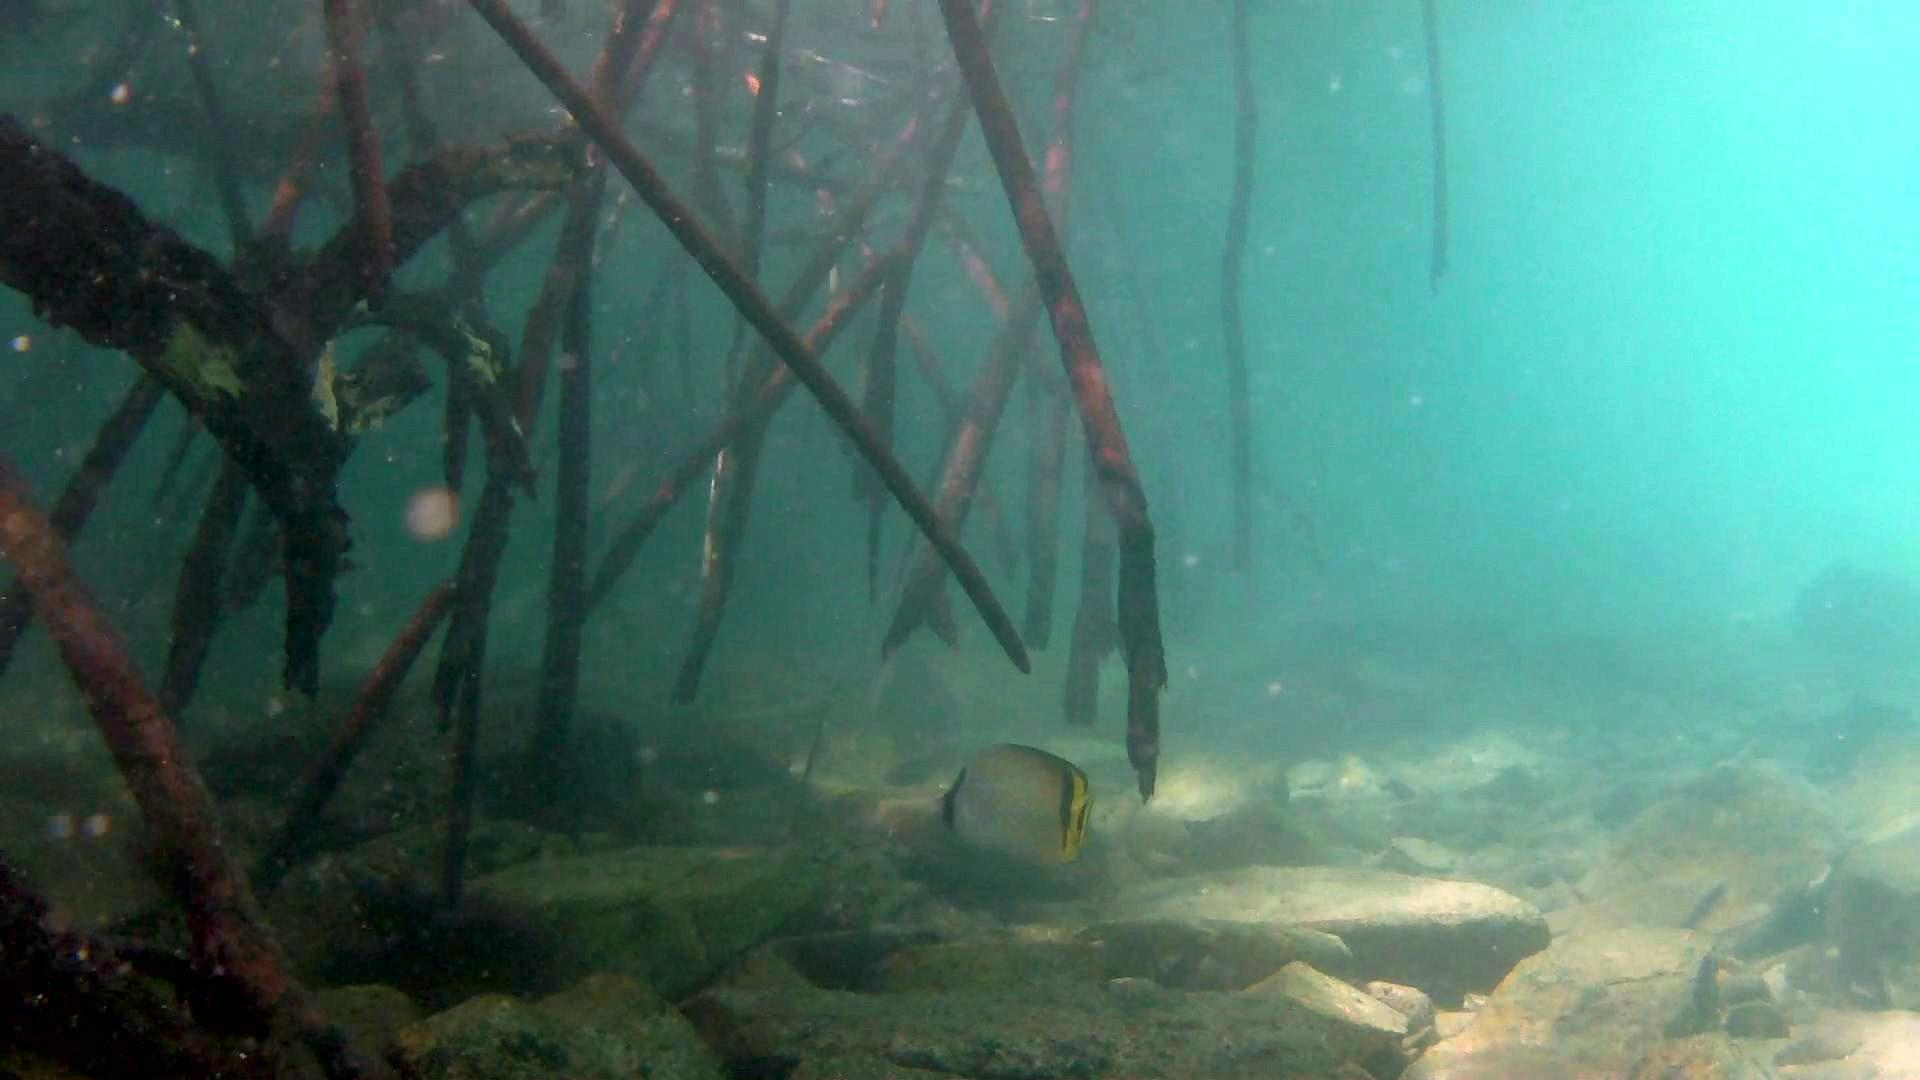chaetodon vagabundus: (926, 741, 1096, 866)
